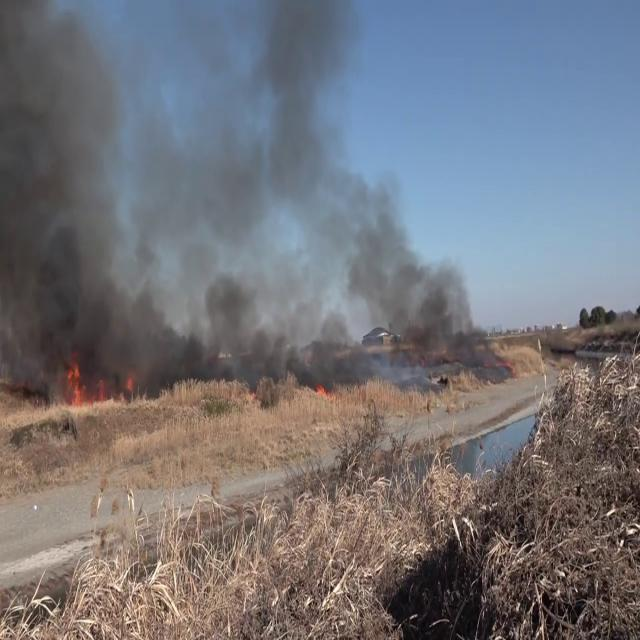Fire: (60, 355, 126, 413)
Smoke: (164, 0, 498, 367), (0, 1, 166, 400)
